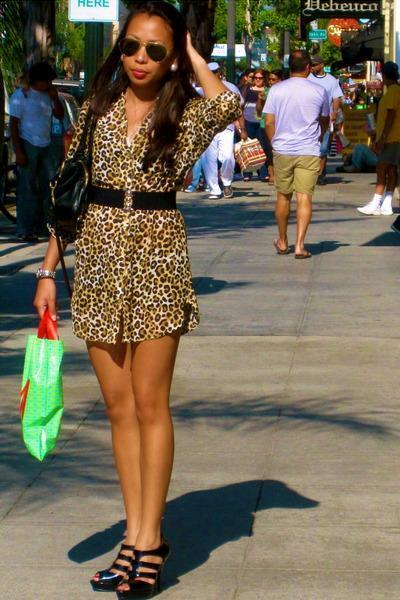bag: (22, 138, 102, 459)
dress: (60, 77, 243, 351)
shoe: (90, 545, 167, 599)
sunglass: (132, 39, 171, 71)
